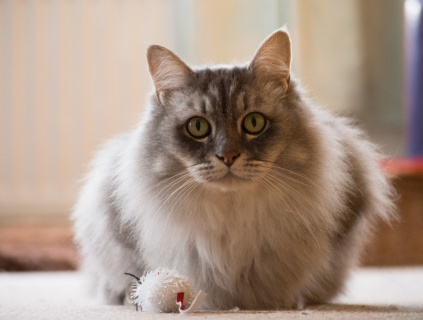Cat: (65, 23, 400, 312)
